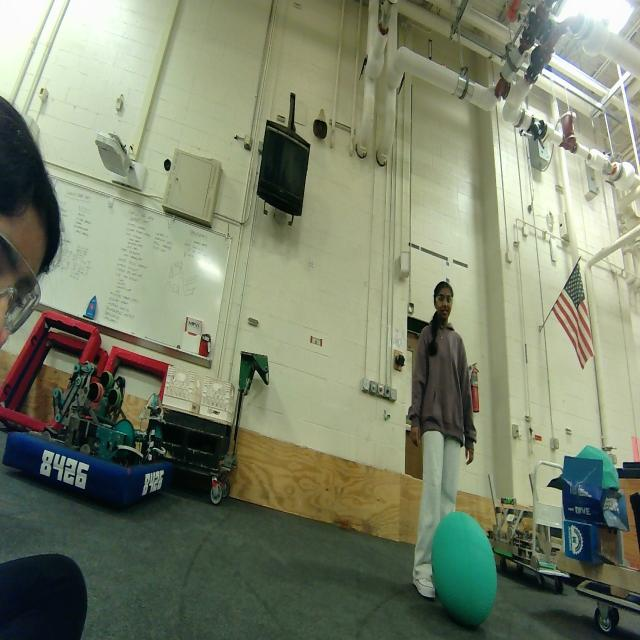algae: (432, 511, 498, 629)
